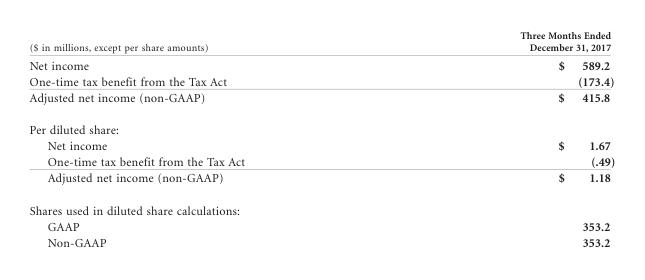table: (28, 29, 614, 248)
table column: (28, 29, 381, 248), (381, 29, 614, 248)
table column header: (28, 29, 614, 55)
table projected row header: (28, 113, 614, 137), (28, 194, 614, 218)
table row: (28, 29, 614, 55), (28, 169, 614, 194), (28, 89, 614, 113), (28, 113, 614, 137), (28, 194, 614, 218), (28, 55, 614, 73), (28, 73, 614, 89), (28, 137, 614, 153), (28, 153, 614, 169), (28, 218, 614, 234), (28, 234, 614, 248)
